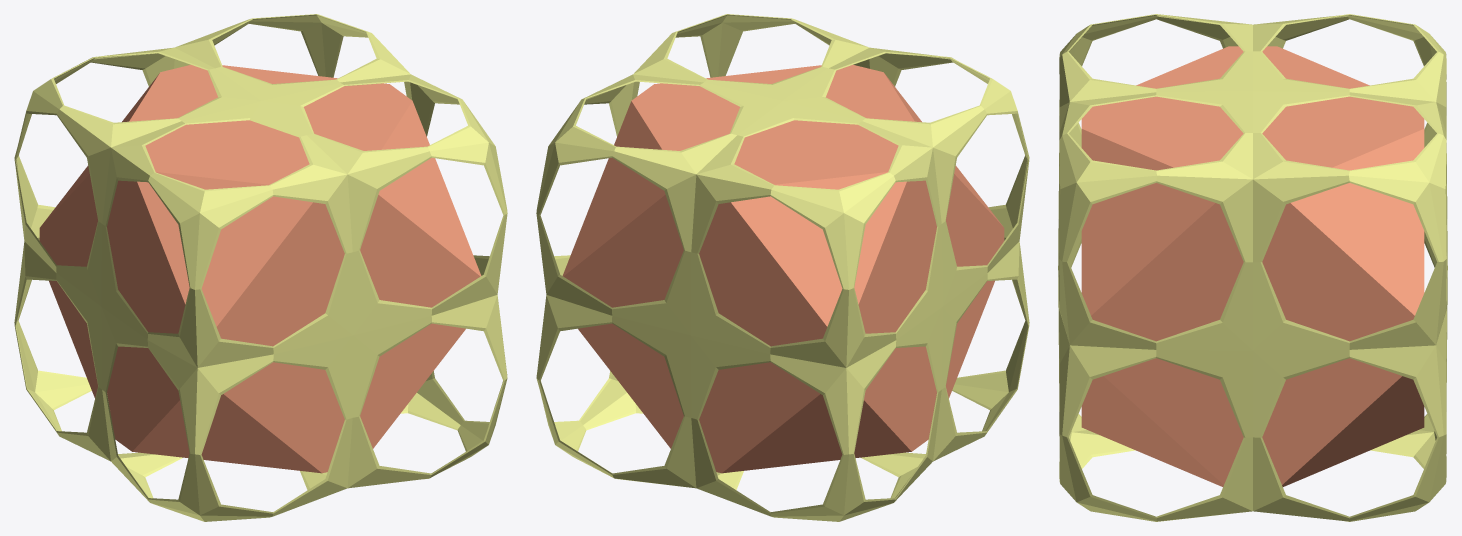
File: CubeWireMesh.fbx
The picture shows the model from 3 angles, left to right: view 1: azimuth 30°, elevation 25°; view 2: azimuth 150°, elevation 25°; view 3: azimuth 270°, elevation 25°; orthographic projection. The views are drawn at different scales.
Visible parts, largest first — view 1: Cube, Cube.001; view 2: Cube, Cube.001; view 3: Cube.001, Cube.
Boxes of the visible parts, x1,y1,x2,y2 form: Cube: [14, 14, 507, 521]; Cube.001: [39, 65, 481, 473]; Cube: [536, 14, 1029, 521]; Cube.001: [562, 65, 1004, 473]; Cube.001: [1081, 46, 1424, 486]; Cube: [1058, 14, 1447, 521].
Bounding box in the file's own units: 201 × 201 × 201.
